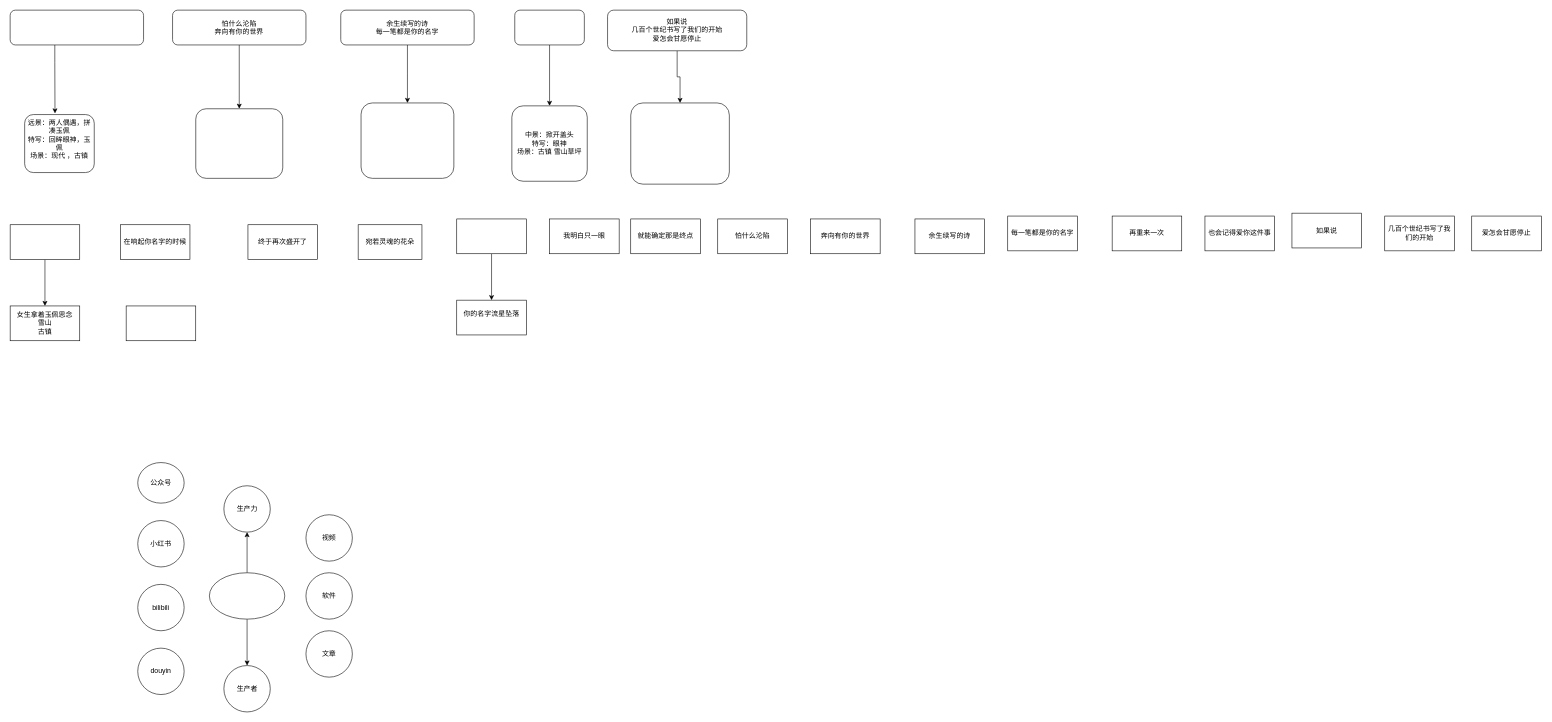
The diagram is 1552 pixels wide and 722 high, and some of its shapes have lost their labels. Each missing label, with the box of its shape:
中景：女生端坐， 男生在扇面上写诗，写完后女生走过来两个人一起拿起扇子，女生抬镜头 特写：扇面的内容是一首藏头诗, 场景：古镇，现代打看扇面欣赏: (360, 102, 454, 178)
全景+中景：跳舞，拥抱 场景：古镇 雪山草坪 雪山公路: (630, 102, 729, 184)
再重来一次 也会记得爱你这件事: (514, 10, 584, 45)
创作者: (209, 572, 285, 619)
我明白只一眼，就能确定那是终点: (10, 10, 144, 45)
记忆里面漫天飞雪的城楼: (10, 224, 80, 260)
远景：女生奔向男主 特写：奔跑中脸部的微笑 场景：古镇，雪山草坪，雪山公路: (195, 108, 283, 178)
陪着我 穿过光年的梦: (456, 218, 526, 254)
